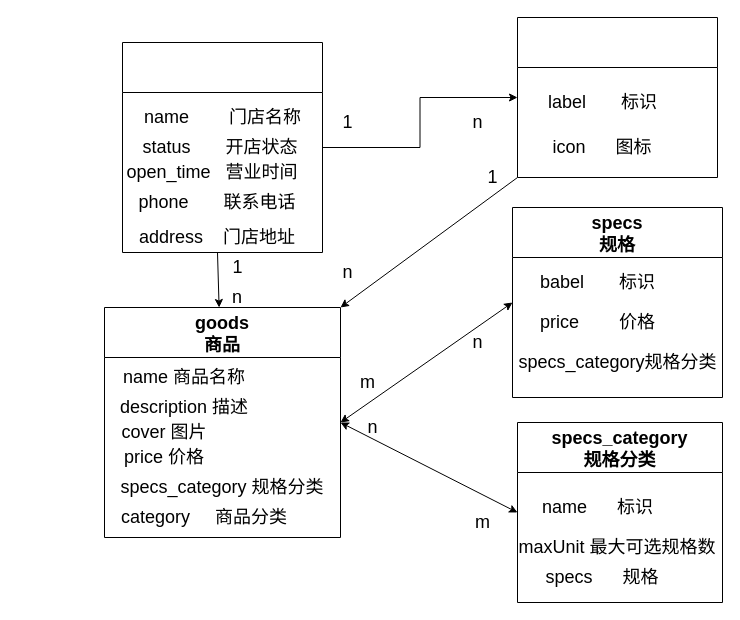
Some shapes in this 740 by 620 pixel diagram are drawn without their labels. The shapes that lost their labels are listed below. From the top down, each one's box as (x1, y1, x2, y2) in pixels, then its label:
(516, 16, 718, 178): goods_category 商品分类
(122, 42, 322, 252): store 门店
